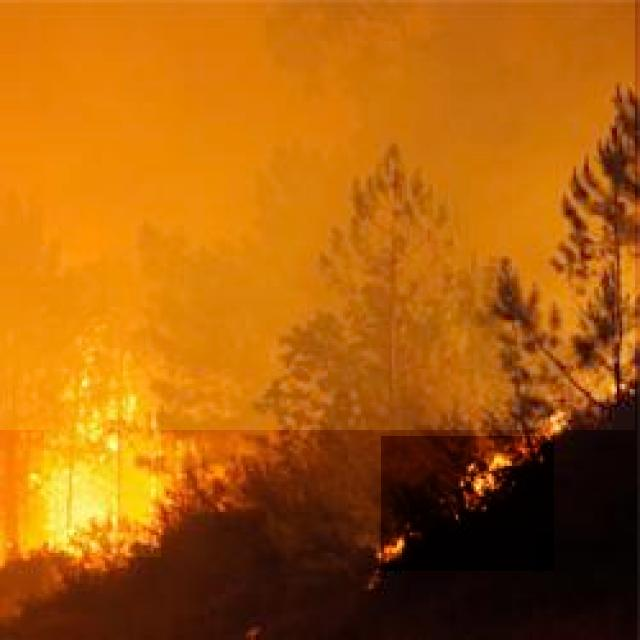Fire: (381, 436, 554, 571), (44, 411, 161, 557)
Smoke: (0, 0, 635, 430)
